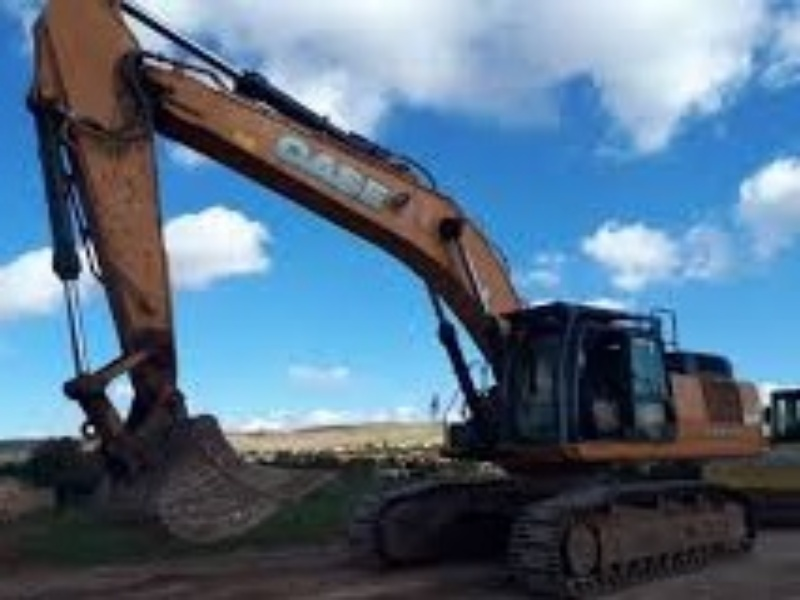wajueji: (331, 178, 800, 594)
